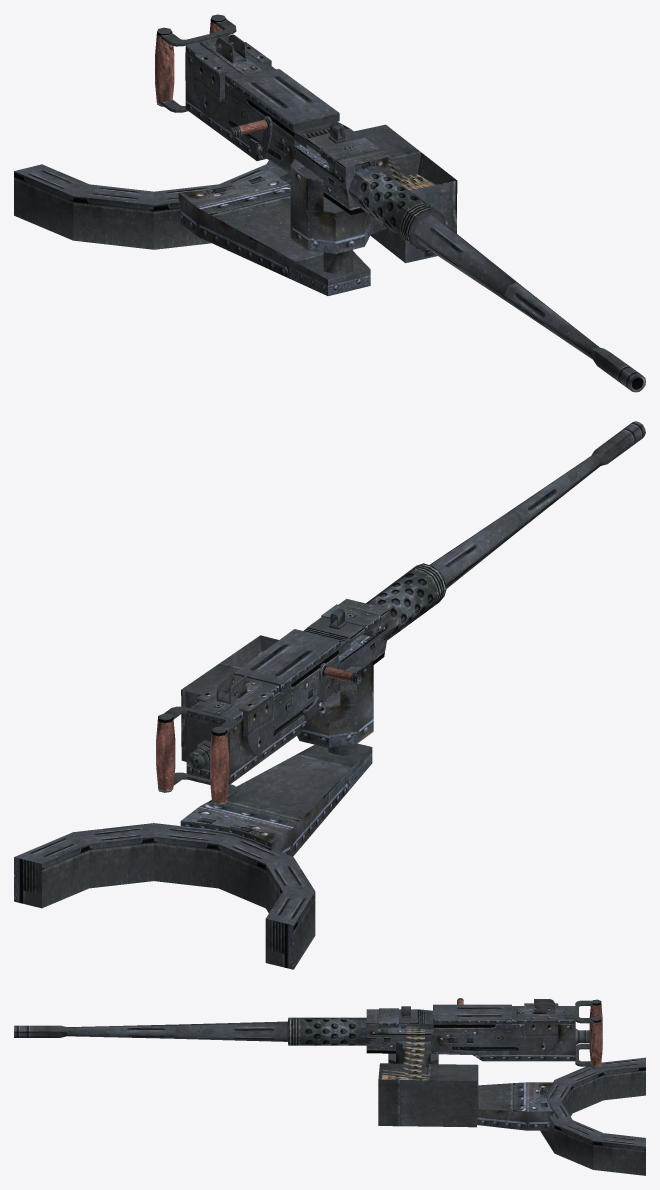
File: h50cal.glb
3 views of the same model, one above another, from view 1: azimuth 30°, elevation 25°; view 2: azimuth 150°, elevation 25°; view 3: azimuth 270°, elevation 25° (orthographic). The views are drawn at different scales.
Parts seen in each view (by area): view 1: _h50cal; view 2: _h50cal; view 3: _h50cal.
Part boxes in pixels (<box>): _h50cal: <box>14,14,645,392</box>; _h50cal: <box>14,421,645,969</box>; _h50cal: <box>14,998,645,1175</box>.
Bounding box in the file's own units: 0.824 × 0.5588 × 2.46.
Materials: 2 (2 with a texture image).
